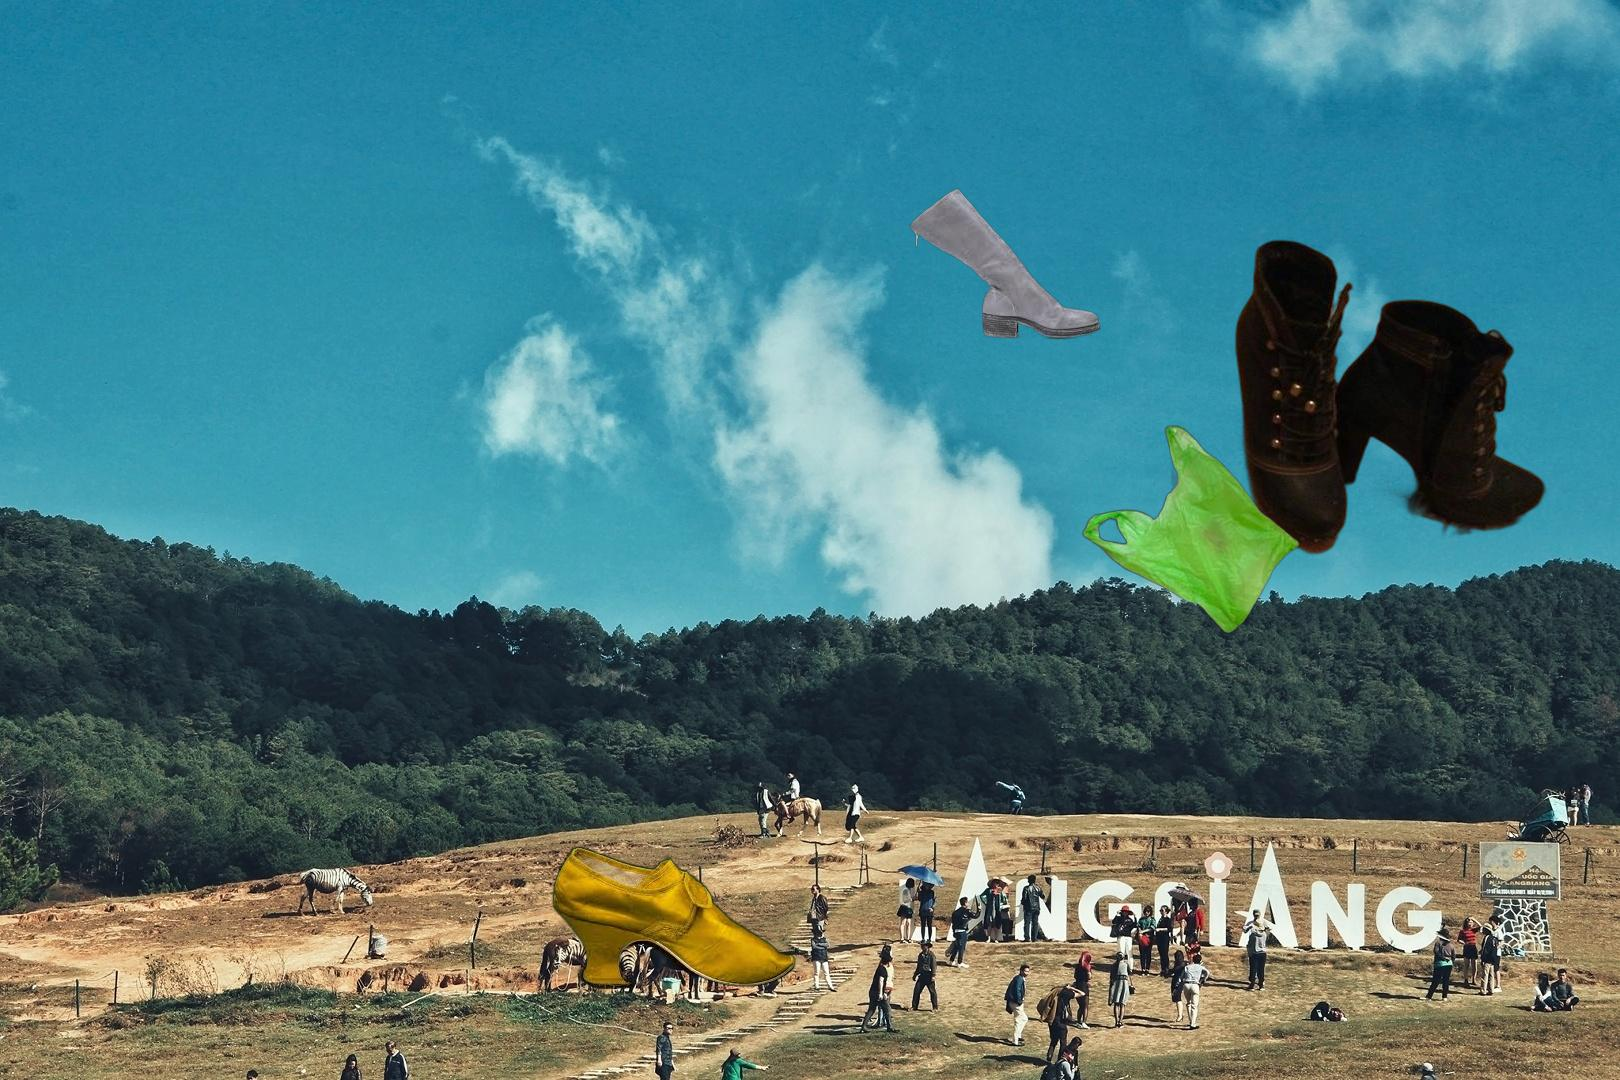plastic-bag: (1080, 423, 1303, 636)
shoes: (1111, 237, 1551, 560), (522, 841, 798, 992), (909, 187, 1100, 342)
